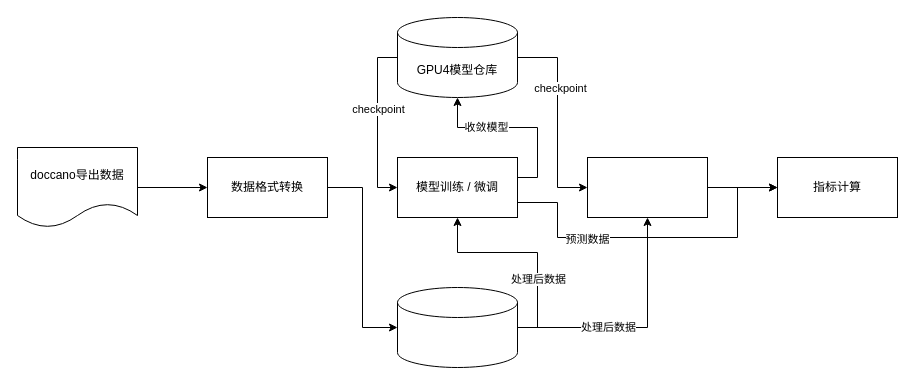
The diagram is 915 pixels wide and 385 high, and some of its shapes have lost their labels. The shapes that lost their labels are listed below. From the top down, each one's centre as x and y in pixels, then its label:
the point at 647,187: 模型预测
the point at 457,327: GPU4数据仓库
